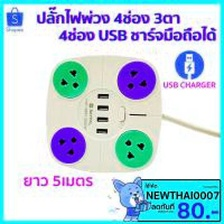three_eye_plug: (42, 49, 162, 176)
